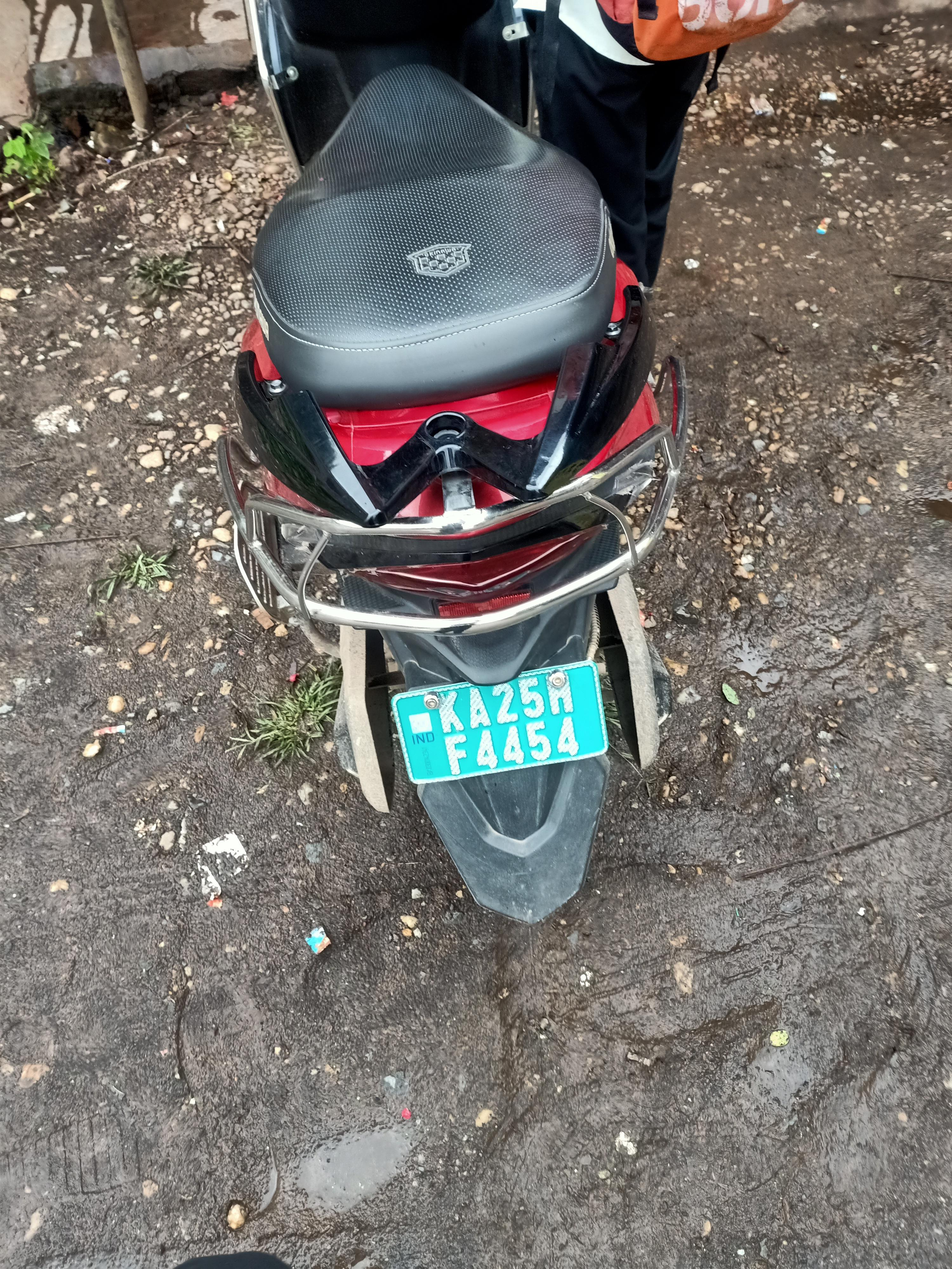green license plate: (387, 665, 605, 792)
